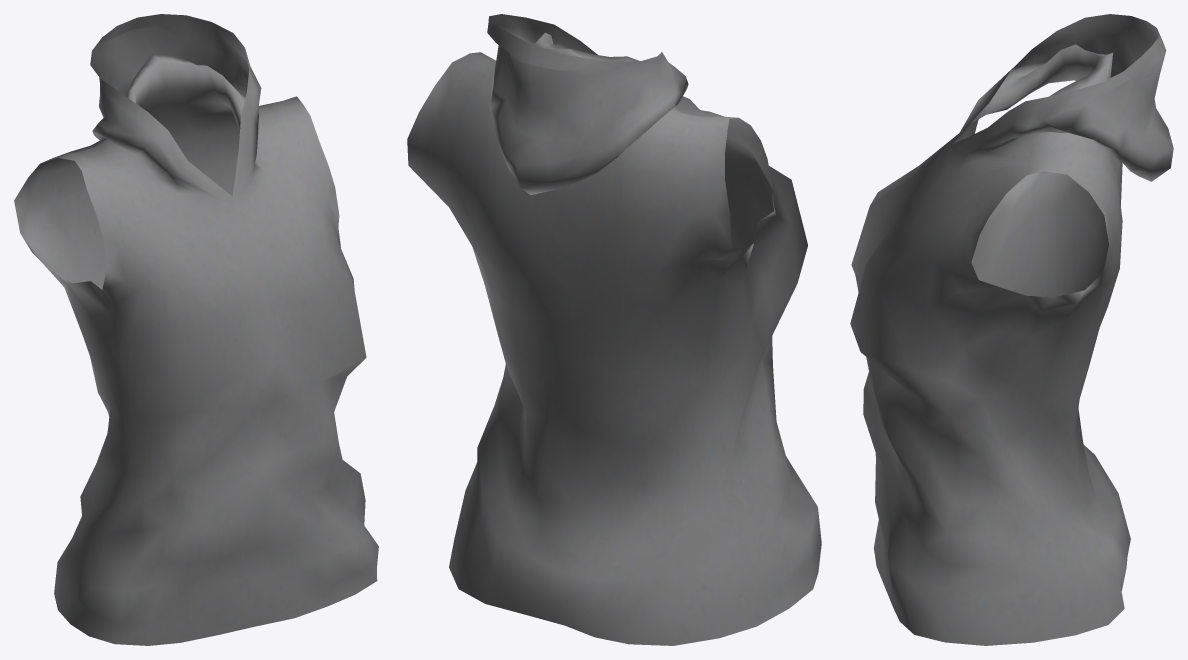
Rendered from Chest.fbx.
3 renders of one model, left to right at view 1: azimuth 30°, elevation 25°; view 2: azimuth 150°, elevation 25°; view 3: azimuth 270°, elevation 25°, orthographic. The views are drawn at different scales.
Visible parts, largest first — view 1: avaturn_look_0.001; view 2: avaturn_look_0.001; view 3: avaturn_look_0.001.
Boxes of the visible parts, bbox=[...] form: avaturn_look_0.001: bbox=[14, 14, 378, 645]; avaturn_look_0.001: bbox=[407, 14, 821, 645]; avaturn_look_0.001: bbox=[850, 14, 1173, 645].
Bounding box in the file's own units: 37.67 × 65.4 × 34.89.
Materials: 1 (1 with a texture image).
